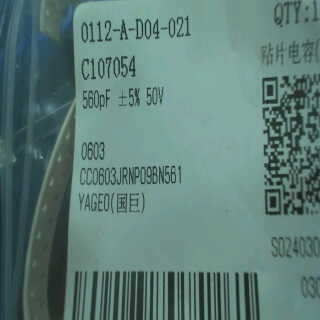560pF: (77, 84, 115, 110)
